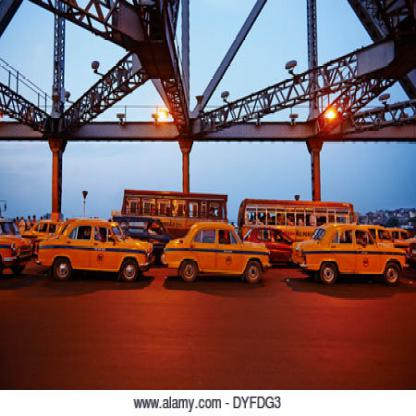bus: (237, 200, 358, 265), (121, 188, 230, 244)
car: (40, 220, 154, 283), (300, 224, 412, 284), (165, 221, 272, 283), (112, 216, 174, 268), (242, 227, 300, 264)
